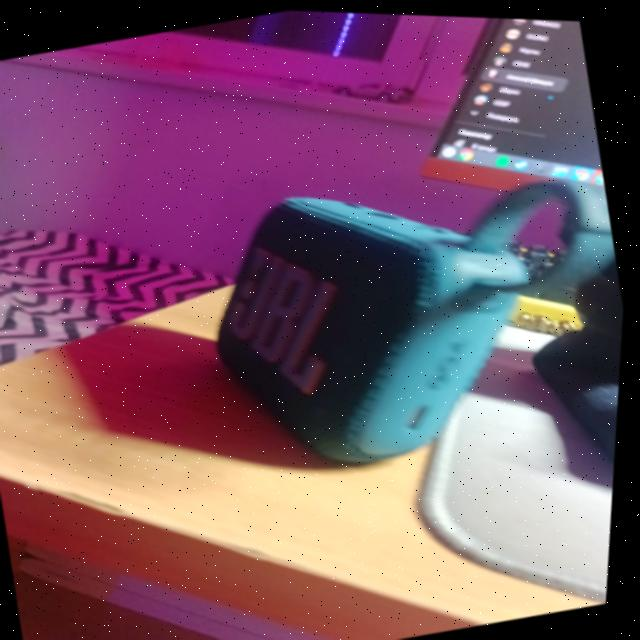column JBL: (184, 128, 634, 499)
